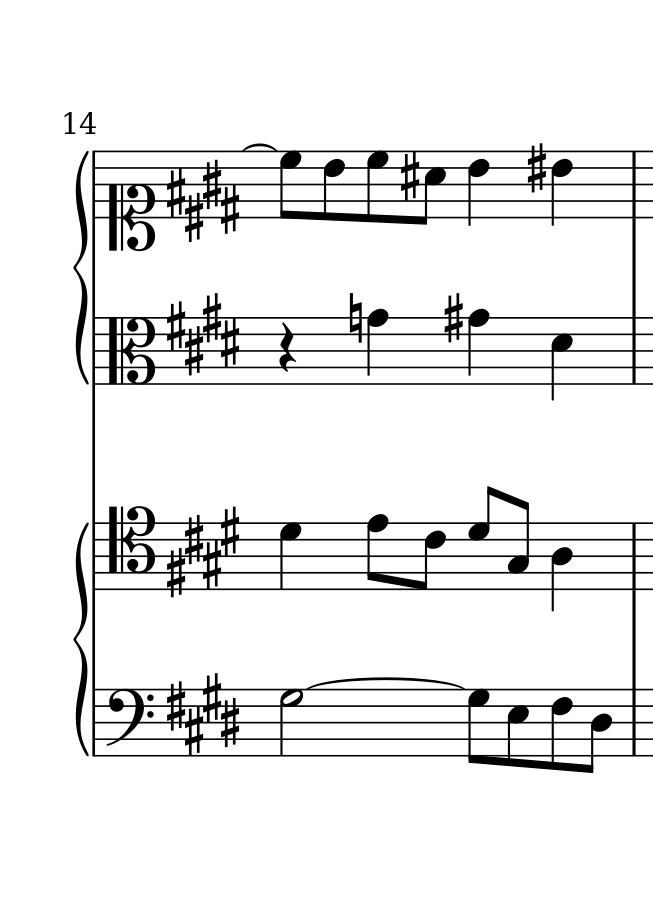1: (61, 111, 78, 136)
2_7: (278, 688, 304, 758)
4: (79, 111, 96, 137)
4_3: (549, 316, 573, 404)
4_4: (549, 520, 574, 615)
4_6: (464, 149, 491, 228), (549, 151, 573, 228)
4_7: (277, 522, 303, 591)
4_8: (364, 306, 391, 388), (466, 307, 491, 387)
8_3: (504, 499, 532, 590)
8_4: (581, 687, 613, 775)
8_5: (416, 150, 448, 226), (505, 688, 530, 767)
8_6: (548, 688, 574, 772), (416, 521, 447, 591), (320, 150, 345, 223)
8_7: (465, 485, 495, 590), (364, 149, 390, 223), (466, 688, 490, 766), (277, 149, 302, 220)
8_8: (364, 513, 389, 593)
Brace: (70, 521, 91, 760), (73, 148, 93, 386)
Cclef: (106, 315, 155, 387)
E_S: (165, 503, 243, 593), (161, 670, 241, 755), (165, 292, 237, 376), (167, 163, 242, 238)
Fclef: (106, 686, 156, 755)
Natural: (347, 293, 363, 344)
Rests4: (273, 319, 298, 378)
Sharp: (441, 291, 465, 345), (400, 151, 421, 202), (527, 141, 547, 194)
Single_barline: (627, 150, 643, 217), (627, 688, 642, 757), (627, 316, 642, 385), (627, 523, 642, 591), (87, 151, 102, 218), (88, 316, 102, 387), (88, 521, 102, 589), (89, 688, 102, 758)
Slur: (307, 675, 467, 689), (241, 142, 278, 153)
Soprano_Cclef: (105, 149, 154, 252)
Tensor_Cclef: (107, 501, 155, 592)
